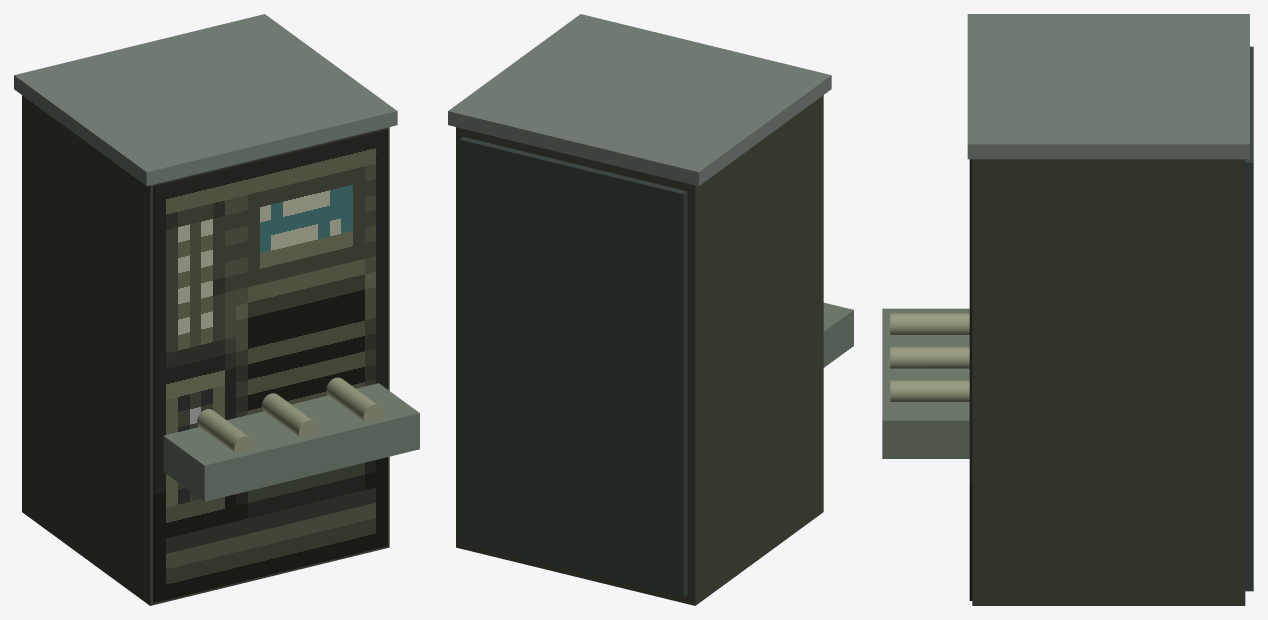
The model's file is CMU3DInteriorVehicleSPPTankAmmoLoader.glb.
3 renders of one model, left to right at view 1: azimuth 30°, elevation 25°; view 2: azimuth 150°, elevation 25°; view 3: azimuth 270°, elevation 25°, orthographic. The views are drawn at different scales.
Visible parts, largest first — view 1: source equipment controls, closed equipment casing, reinforced top, loading tray, feed roller (×3); view 2: rear service plate, closed equipment casing, reinforced top, loading tray; view 3: closed equipment casing, reinforced top, loading tray, feed roller (×3), rear service plate, source equipment controls.
Boxes of the visible parts, left/top/right/bottom form: source equipment controls: left=153, top=129, right=387, bottom=602; closed equipment casing: left=22, top=95, right=389, bottom=605; reinforced top: left=14, top=14, right=397, bottom=186; loading tray: left=163, top=383, right=419, bottom=501; feed roller (×3): left=197, top=377, right=382, bottom=453; rear service plate: left=459, top=137, right=687, bottom=596; closed equipment casing: left=456, top=95, right=823, bottom=605; reinforced top: left=448, top=14, right=831, bottom=186; loading tray: left=823, top=302, right=853, bottom=367; closed equipment casing: left=972, top=159, right=1245, bottom=605; reinforced top: left=967, top=14, right=1249, bottom=159; loading tray: left=882, top=308, right=969, bottom=458; feed roller (×3): left=890, top=313, right=969, bottom=401; rear service plate: left=1245, top=46, right=1253, bottom=591; source equipment controls: left=969, top=159, right=972, bottom=600.
Size of the model in its own units: 0.655 by 1.09 by 0.7894.
Materials: 6 (1 with a texture image).
